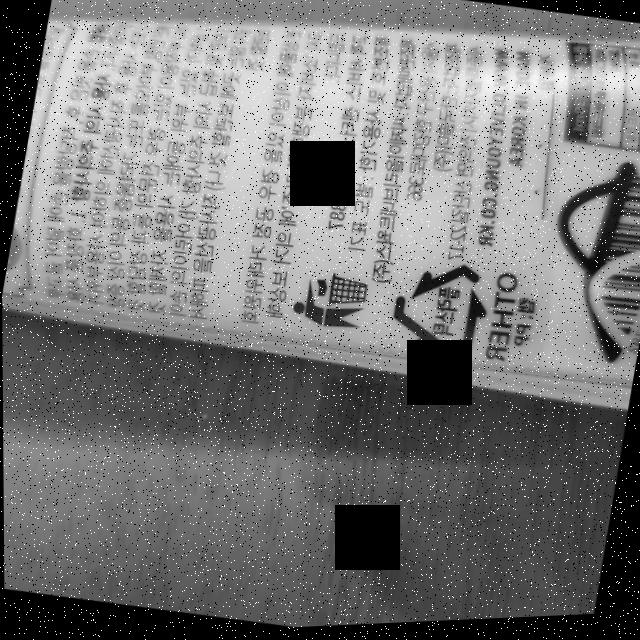Plastic: (380, 252, 494, 369)
